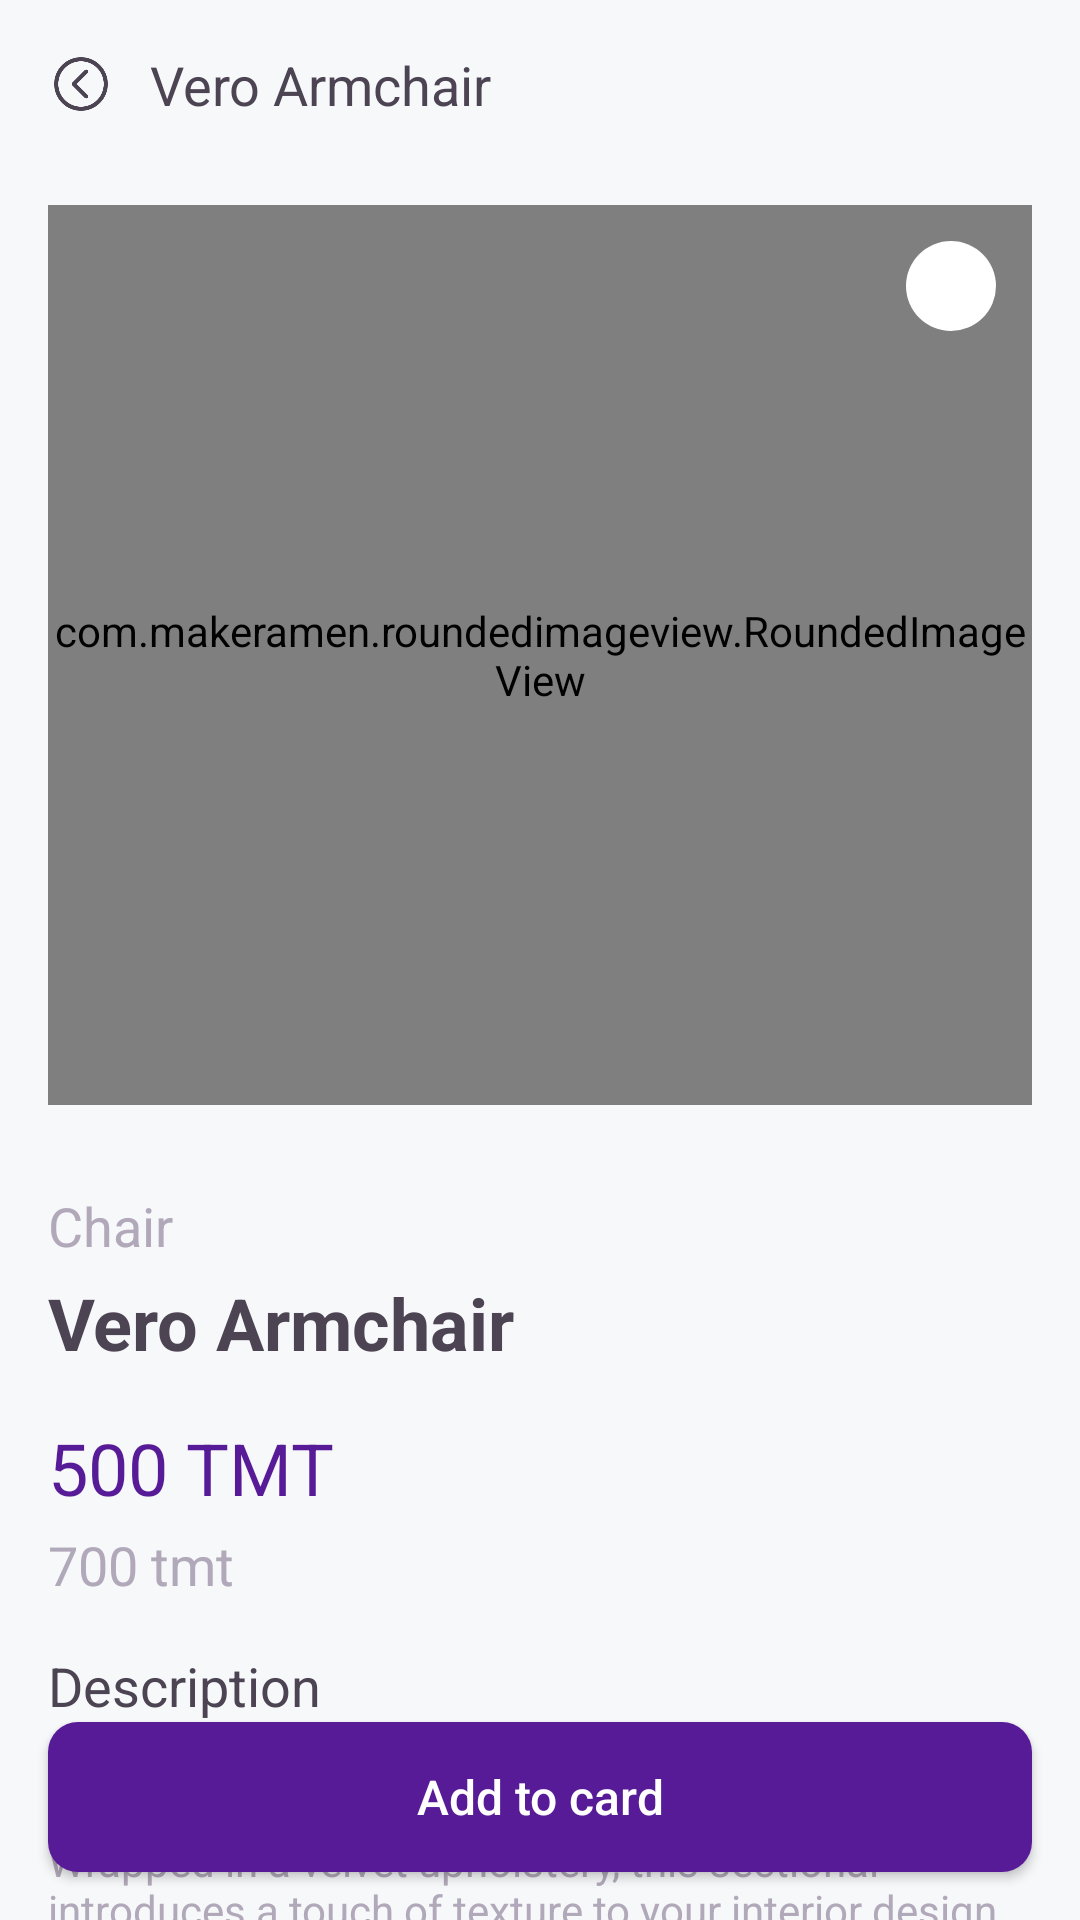

Locate icon controls on the screen. Image size 1080×1920, boxes as (x1, y1, x2, y2).
back: (54, 57, 108, 111)
